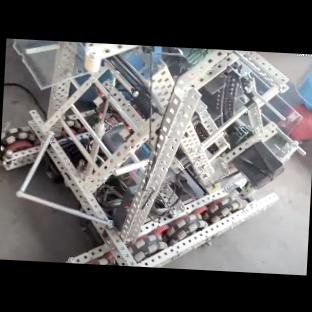Robot: (0, 37, 301, 267)
